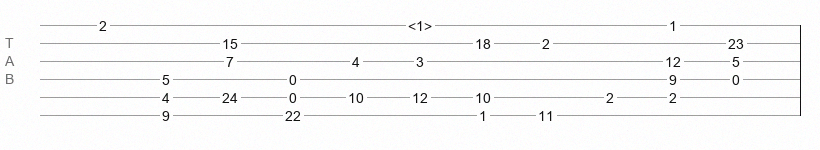0: (289, 72, 297, 82), (289, 90, 297, 100), (732, 72, 740, 82)
1: (479, 108, 487, 118), (669, 18, 677, 28)
10: (348, 90, 364, 100), (475, 90, 491, 100)
11: (538, 108, 554, 118)
12: (412, 90, 428, 100), (665, 54, 681, 64)
15: (222, 36, 238, 46)
18: (475, 36, 491, 46)
2: (99, 18, 107, 28), (542, 36, 550, 46), (606, 90, 614, 100), (669, 90, 677, 100)
22: (285, 108, 301, 118)
23: (728, 36, 744, 46)
24: (222, 90, 238, 100)
3: (416, 54, 424, 64)
4: (162, 90, 170, 100), (352, 54, 360, 64)
5: (162, 72, 170, 82), (732, 54, 740, 64)
7: (226, 54, 234, 64)
9: (162, 108, 170, 118), (669, 72, 677, 82)
harmonic: (408, 18, 432, 28)
